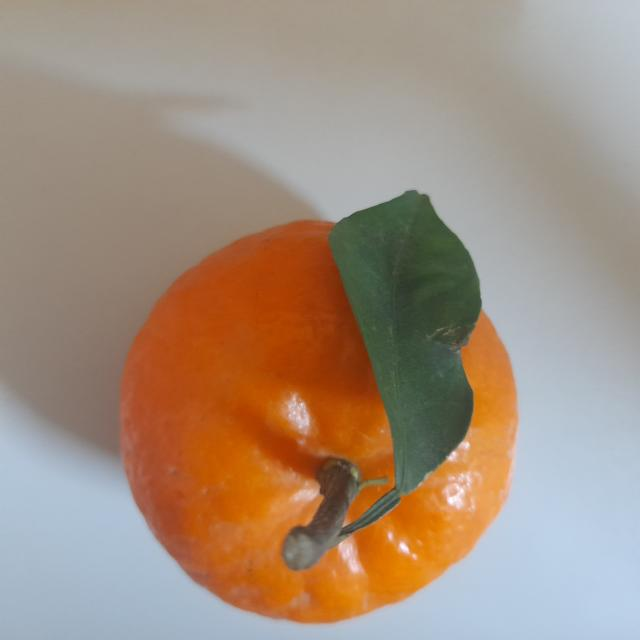Cam: (93, 189, 524, 612)
